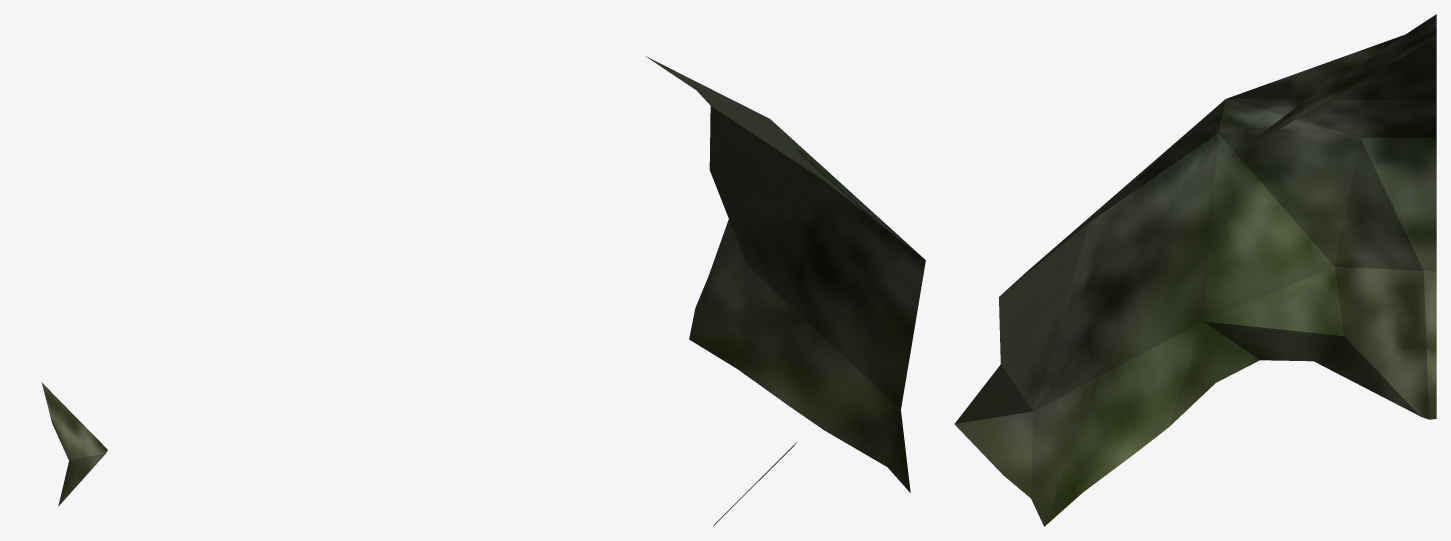
3 renders of one model, left to right at view 1: azimuth 30°, elevation 25°; view 2: azimuth 150°, elevation 25°; view 3: azimuth 270°, elevation 25°, orthographic. The views are drawn at different scales.
Bounding box in the file's own units: 0.453 × 0.6185 × 0.554.
Materials: 1 (1 with a texture image).
